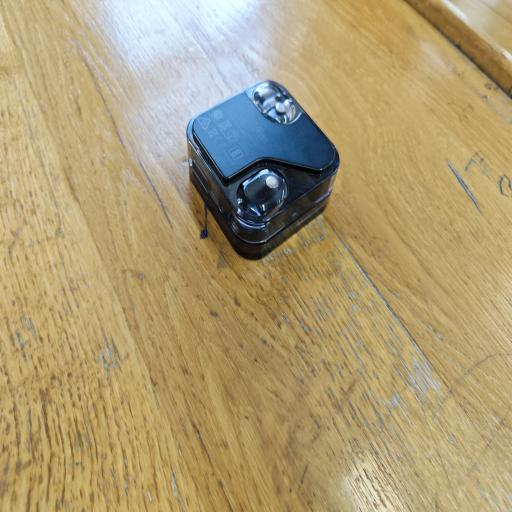Headphones: (185, 74, 343, 265)
